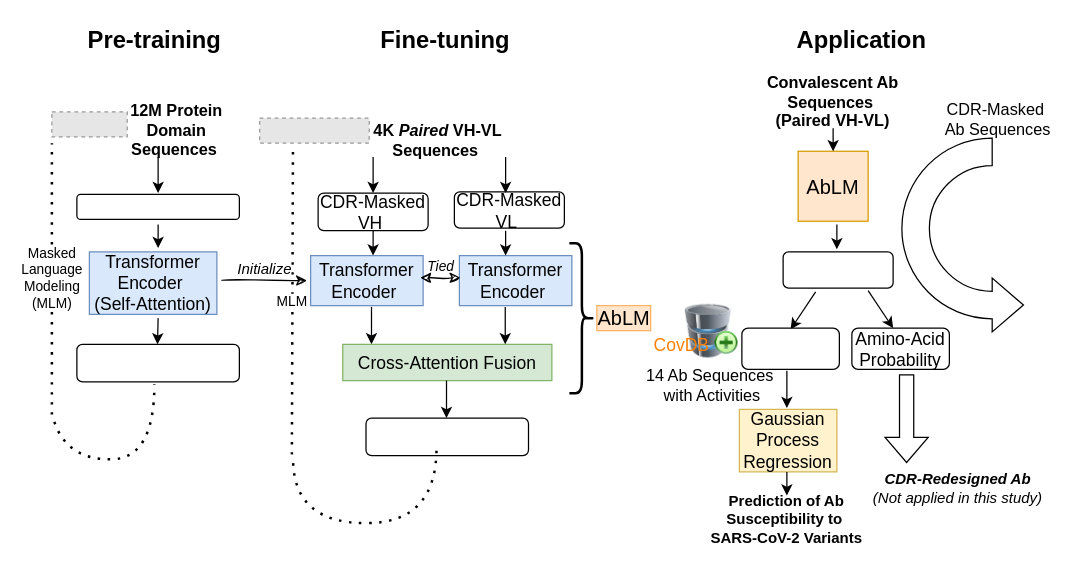
This 1089x568 diagram has some shape labels left out. Grey dashed boxes stand in for pictures. The box of each missing label's shape, as (x1, y1, x2, y2) in pixels:
Ab Embedding: (741, 327, 839, 369)
Masked Sequences: (76, 193, 239, 219)
P(Reconstructed Sequences): (76, 343, 239, 382)
P(Reconstructed VH-VL Sequences): (365, 417, 528, 456)
Residue Embedding: (782, 251, 893, 288)
